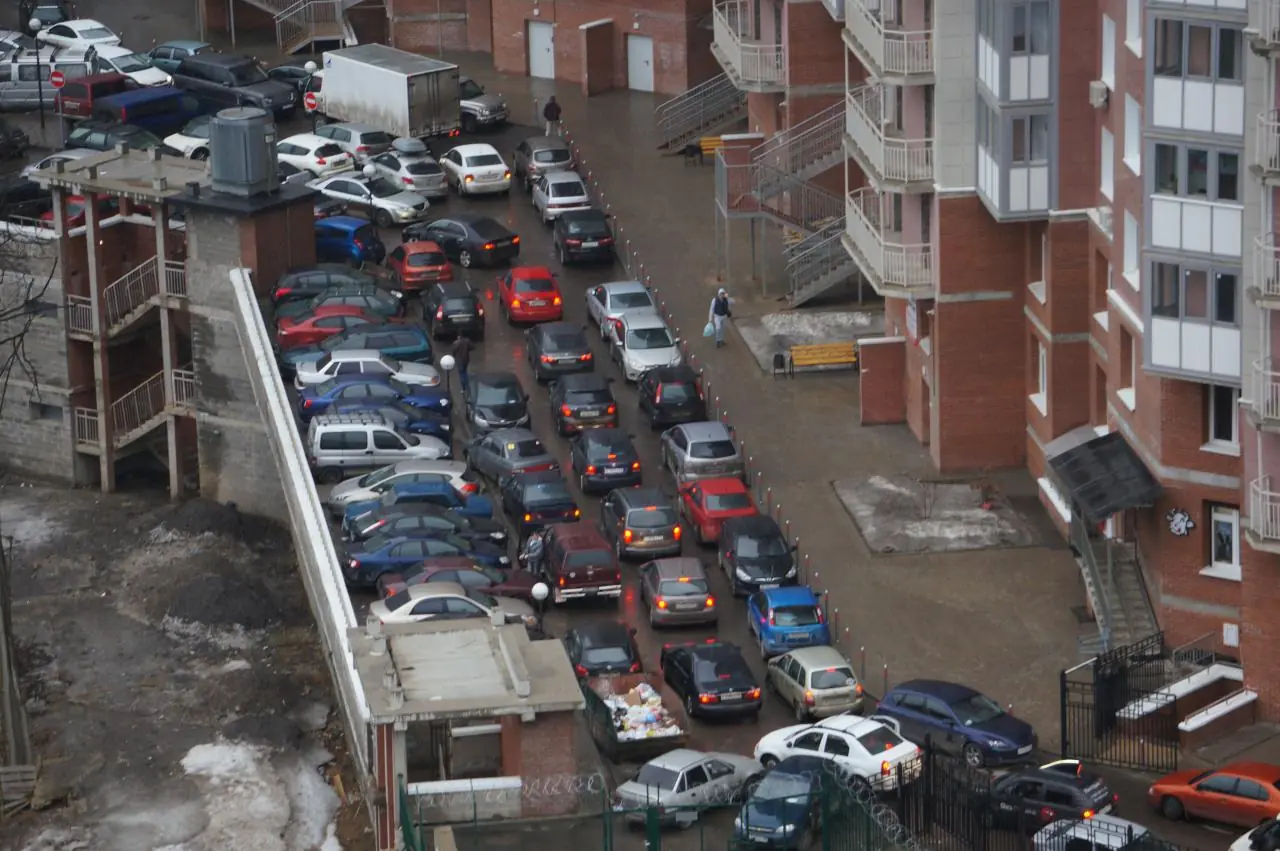Car: (303, 42, 460, 142), (877, 678, 1037, 769), (753, 714, 922, 799), (614, 749, 767, 829), (306, 410, 454, 484), (343, 527, 514, 590), (733, 755, 845, 851), (975, 758, 1117, 833), (515, 520, 622, 607), (278, 322, 435, 380), (377, 558, 548, 611), (1148, 761, 1280, 828), (327, 460, 481, 517), (172, 53, 297, 119), (365, 581, 536, 629), (660, 640, 762, 719), (342, 481, 493, 534), (298, 373, 454, 423), (350, 503, 509, 552), (766, 646, 864, 721), (303, 172, 430, 229), (91, 86, 220, 140), (0, 43, 100, 112), (717, 514, 798, 597), (323, 395, 453, 446), (270, 263, 408, 310), (400, 215, 521, 268), (746, 584, 831, 659), (294, 349, 441, 392), (600, 486, 683, 560), (463, 428, 561, 488), (676, 476, 759, 546), (639, 556, 718, 628), (359, 137, 447, 201), (276, 305, 409, 347), (1032, 814, 1179, 851), (273, 284, 405, 325), (501, 470, 583, 535), (609, 310, 681, 383), (661, 420, 743, 483), (564, 620, 643, 683), (63, 43, 175, 86), (65, 118, 185, 158), (31, 193, 157, 231), (571, 428, 642, 494), (549, 371, 619, 437), (61, 73, 155, 122), (584, 280, 660, 340), (524, 321, 595, 384), (638, 365, 707, 429), (466, 371, 531, 436), (496, 264, 564, 326), (419, 280, 485, 341), (439, 143, 512, 196), (313, 216, 385, 267), (277, 133, 356, 179), (307, 125, 393, 167), (553, 208, 616, 265), (386, 242, 453, 295), (513, 135, 578, 189), (531, 170, 592, 225), (460, 75, 510, 133), (138, 40, 217, 75), (17, 148, 98, 180), (34, 19, 123, 48), (162, 113, 214, 161), (267, 65, 319, 107), (1228, 813, 1280, 851), (29, 0, 69, 30), (0, 29, 56, 50), (313, 193, 349, 220)
